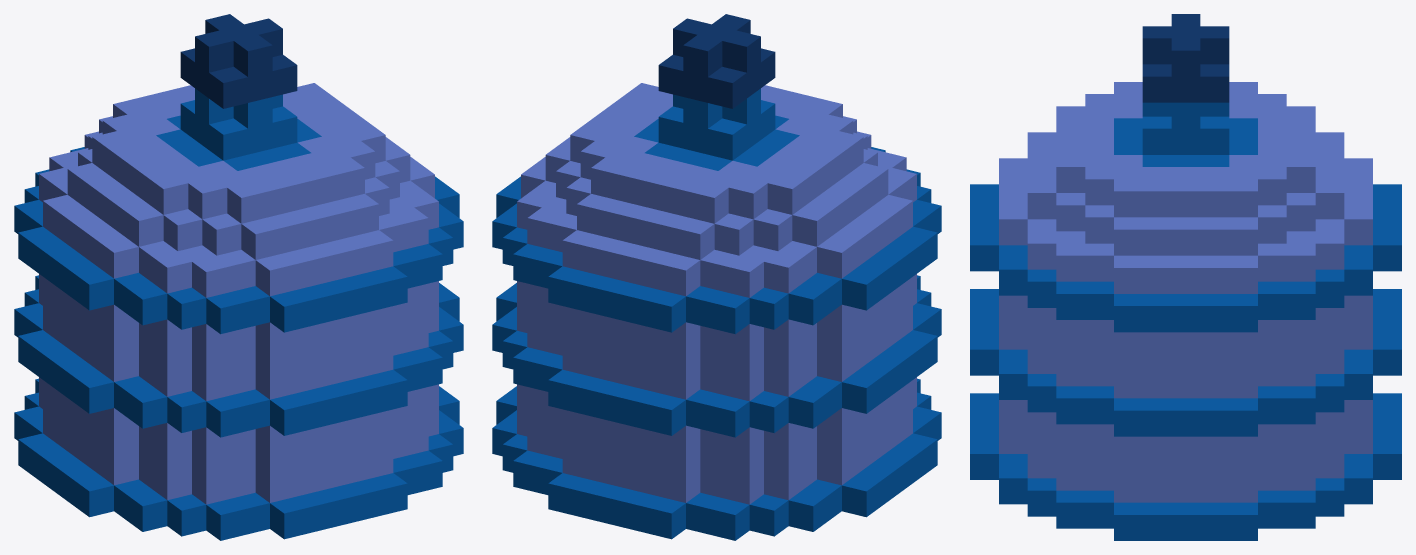
Rendered from Big_Bottle.fbx.
The picture shows the model from 3 angles, left to right: view 1: azimuth 30°, elevation 25°; view 2: azimuth 150°, elevation 25°; view 3: azimuth 270°, elevation 25°; orthographic projection.
Visible parts, largest first — view 1: Big_Bottle:Big_Bottle; view 2: Big_Bottle:Big_Bottle; view 3: Big_Bottle:Big_Bottle.
Part boxes in pixels (<box>): Big_Bottle:Big_Bottle: <box>14,14,463,540</box>; Big_Bottle:Big_Bottle: <box>492,14,941,540</box>; Big_Bottle:Big_Bottle: <box>970,14,1401,540</box>.
Bounding box in the file's own units: 15 × 16 × 15.
